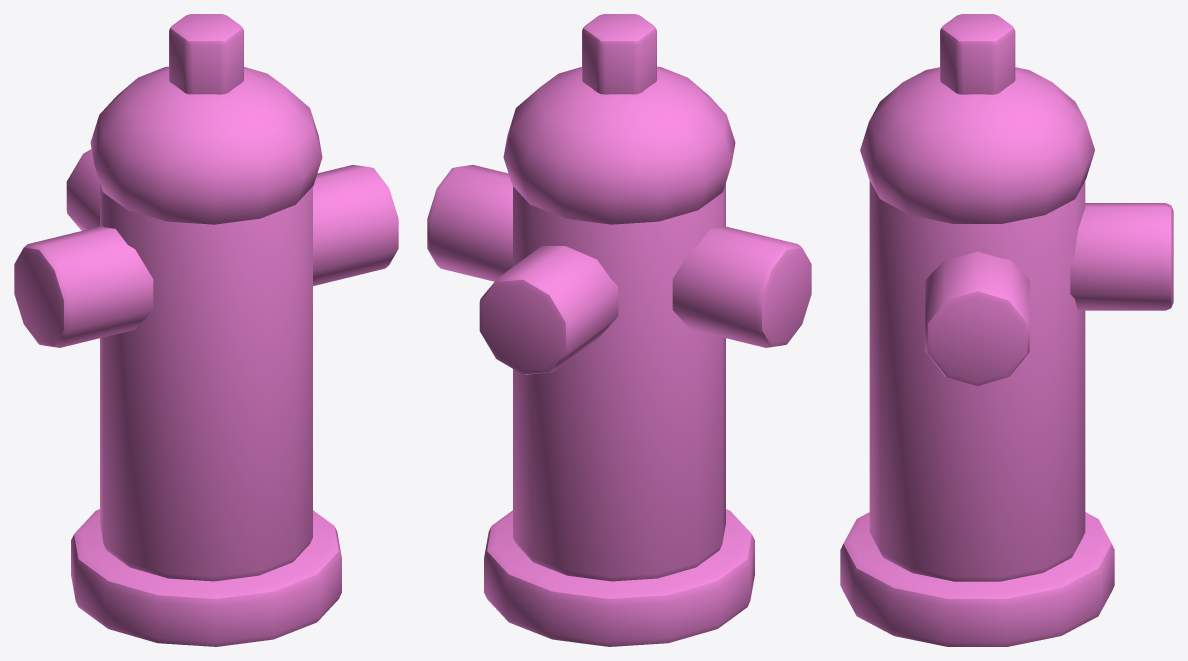
The model's file is Street_Hydrant.fbx.
3 views of the same model, side by side, from view 1: azimuth 30°, elevation 25°; view 2: azimuth 150°, elevation 25°; view 3: azimuth 270°, elevation 25° (orthographic).
Parts seen in each view (by area): view 1: Hydrant; view 2: Hydrant; view 3: Hydrant.
Boxes of the visible parts, left/top/right/bottom form: Hydrant: left=14, top=14, right=398, bottom=646; Hydrant: left=427, top=14, right=811, bottom=646; Hydrant: left=840, top=14, right=1173, bottom=646.
Size of the model in its own units: 2 by 3.2 by 1.7.
1 material, 1 textured.
